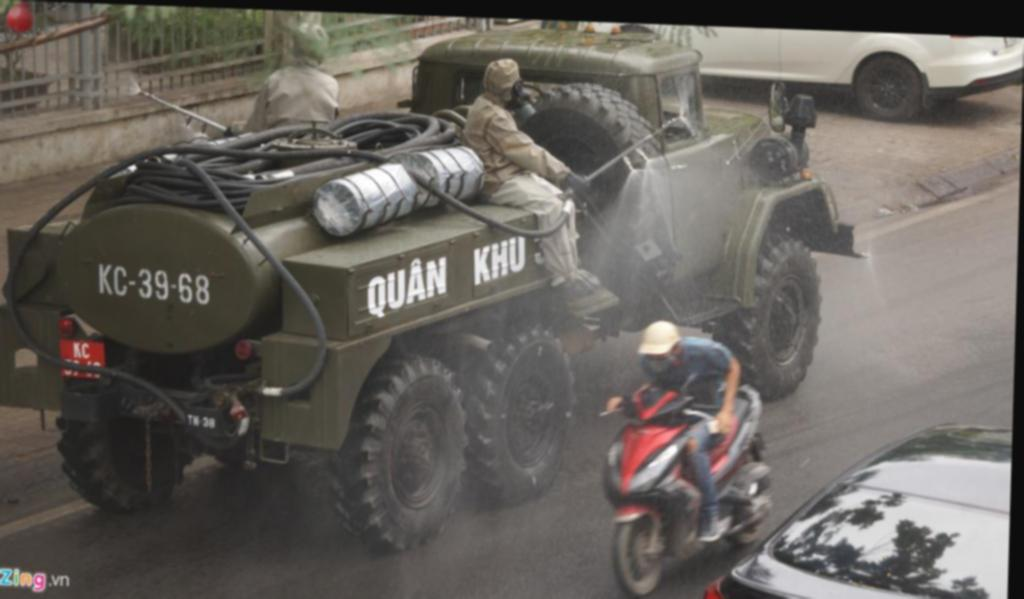License_Plate: (60, 339, 108, 383)
